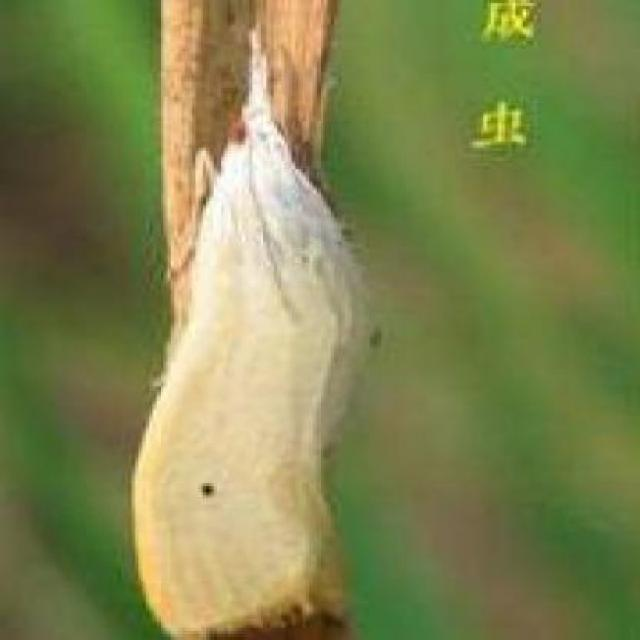stem-borer: (127, 21, 370, 640)
